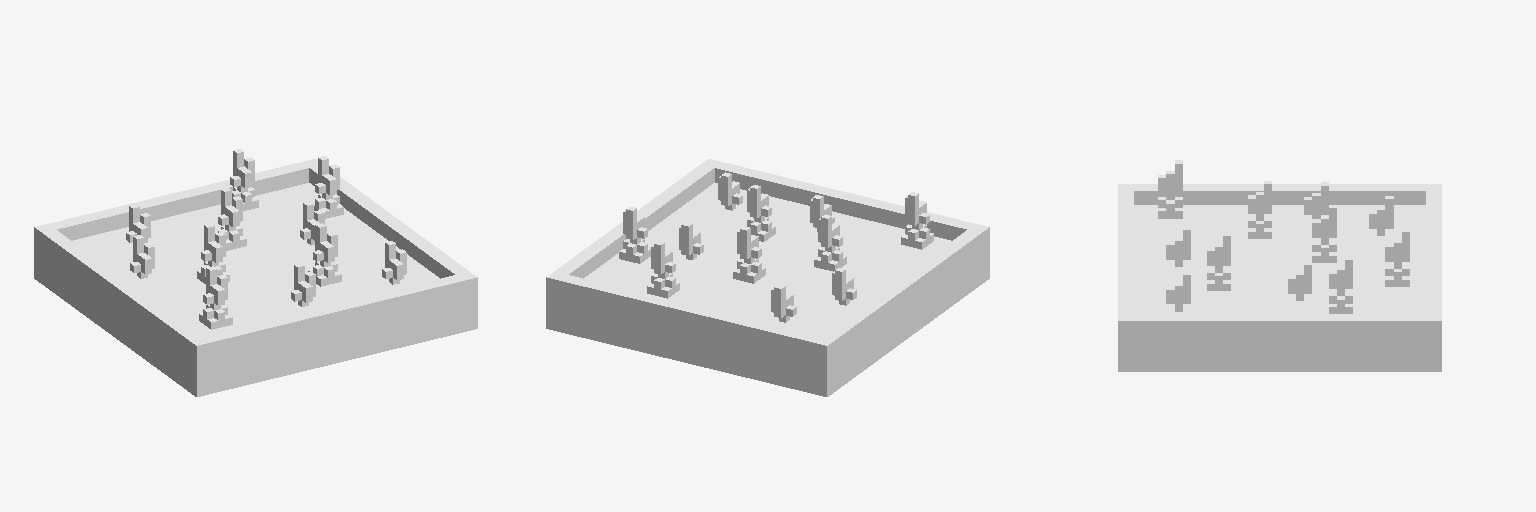
The model's file is EmptyBed-1.obj.
3 views of the same model, side by side, from view 1: azimuth 30°, elevation 25°; view 2: azimuth 150°, elevation 25°; view 3: azimuth 270°, elevation 25° (orthographic).
Visible parts, largest first — view 1: object 1; view 2: object 1; view 3: object 1.
Part boxes in pixels (x1,y1,x2,y2): object 1: (34,149,477,396); object 1: (546,159,989,396); object 1: (1118,160,1441,371).
Size of the model in its own units: 4 by 1.3 by 4.